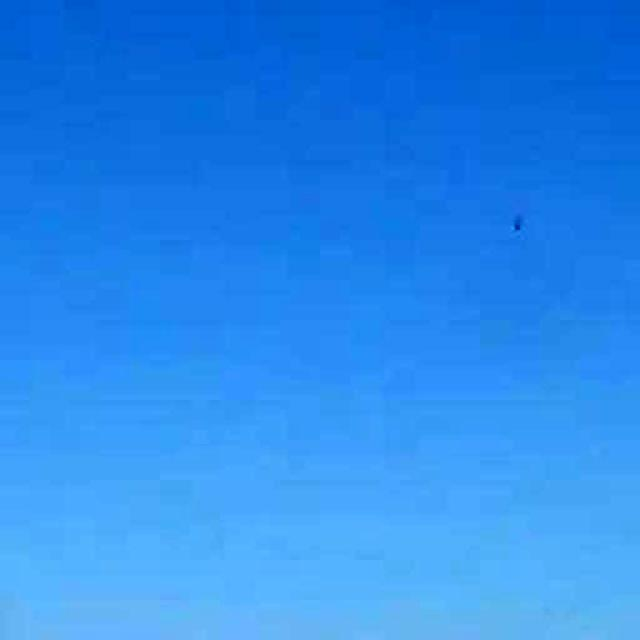drone: (488, 182, 550, 259)
